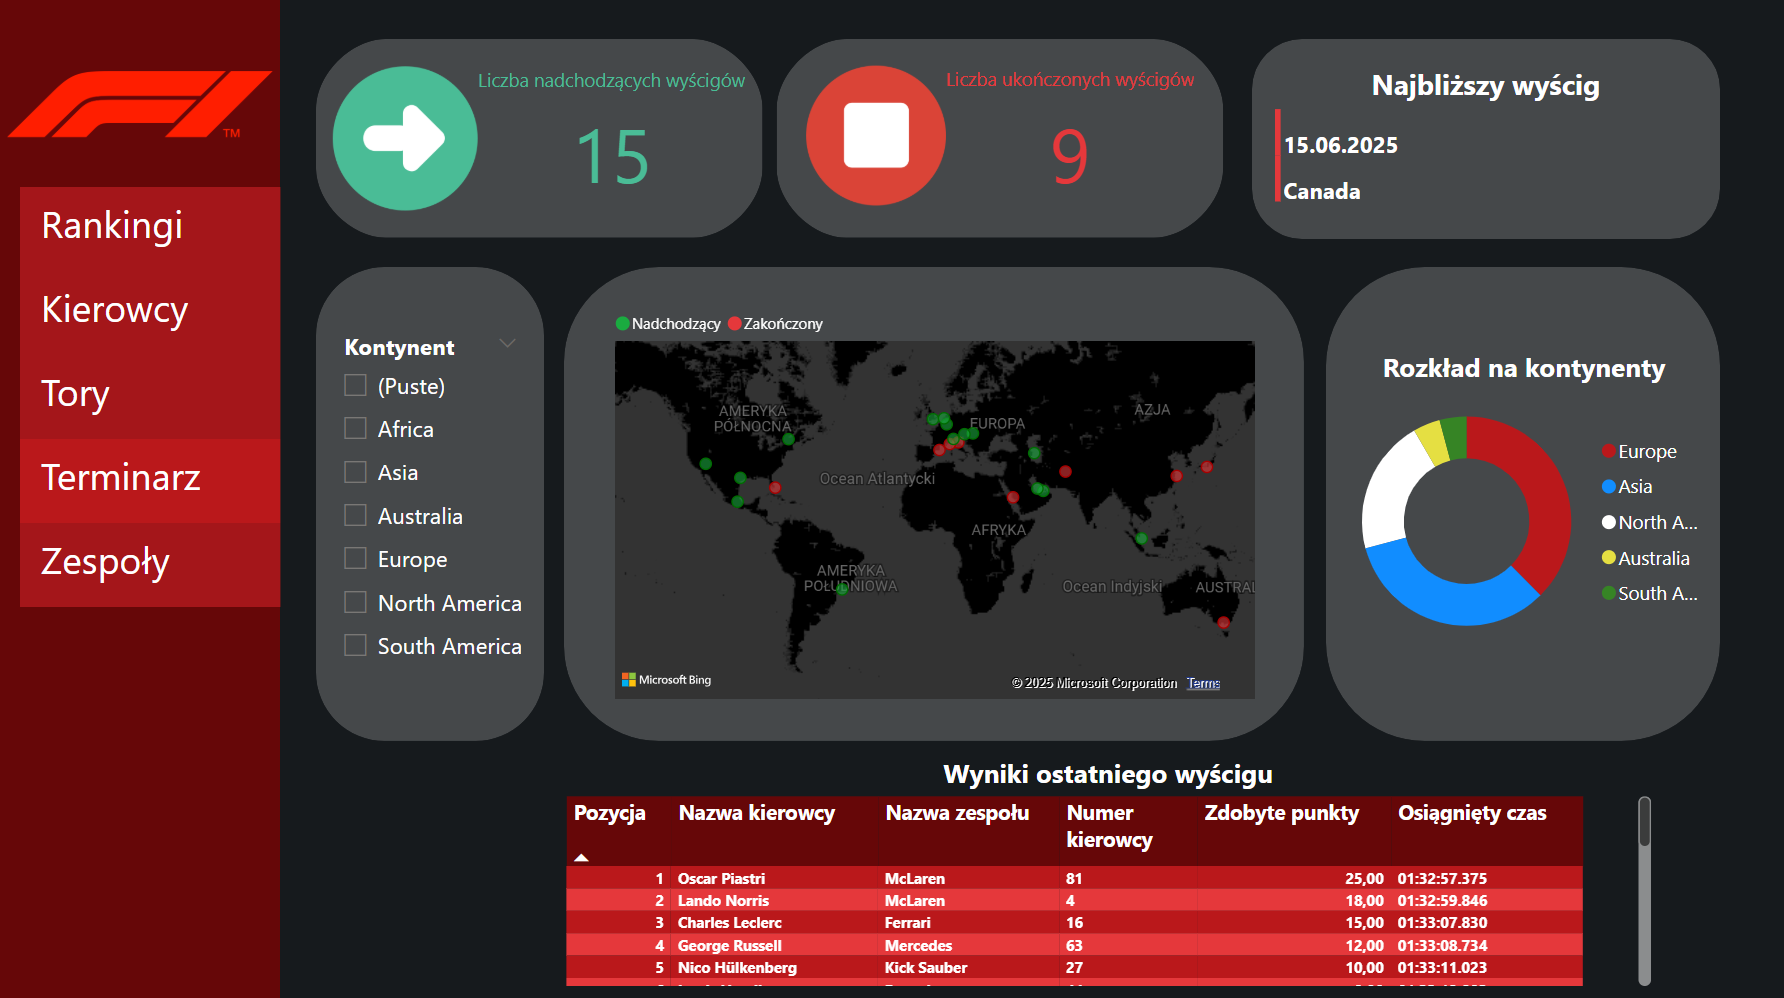

This screenshot's page, from the dashboard's own definition file:
{"tool":"powerbi","page":{"name":"Terminarz","canvas":[1280,720],"ordinal":3},"visuals":[{"type":"shape","box":[947.1,191.4,281.4,338.6],"z":0},{"type":"shape","box":[225.7,191.4,162.9,338.6],"z":1000},{"type":"shape","box":[402.9,191.4,528.6,338.6],"z":2000},{"type":"shape","box":[894.3,28.6,334.3,142.9],"z":3000},{"type":"shape","box":[0,0,200,720],"z":4000},{"type":"image","box":[0,0,200,150],"z":5000},{"type":"pageNavigator","box":[14,134,186,300],"z":6000},{"type":"slicer","fields":{"Values":["DWH dim_country.continent_name"]},"box":[232.9,231.4,148.6,257.1],"z":7000},{"type":"map","fields":{"Category":["DWH dim_circuit.circuit_place_name"],"Series":["DWH dim_race.CzyWyścigOdbyłSię"]},"box":[434.3,212.9,467.1,292.9],"z":8000},{"type":"cardVisual","fields":{"Data":["DWH dim_race.LiczbaWyścigówTak","DWH dim_race.LiczbaWyścigówNie"]},"box":[225.7,28.6,648.6,142.9],"z":9000},{"type":"cardVisual","title":"Najbliższy wyścig","fields":{"Data":["DWH dim_race.NajbliższyWyścig","DWH dim_race.NajbliższeGrandPrix"]},"box":[905.7,47.1,311.4,104.3],"z":10000},{"type":"tableEx","title":"Wyniki ostatniego wyścigu","fields":{"Values":["DWH fact_race_data.race_data_position_display_order","DWH dim_driver.driver_name","DWH dim_constructor.constructor_name","DWH dim_driver.driver_permanent_number","DWH fact_race_data.race_data_race_points","DWH fact_race_data.Łączny Czas Z Karami (Formatowany)"]},"box":[402.9,540,781.4,170],"z":11000},{"type":"donutChart","title":"Rozkład na kontynenty","fields":{"Category":["DWH dim_country.continent_name"],"Y":["CountNonNull(DWH dim_race.CzyWyścigOdbyłSię)"]},"box":[947.1,250,282.9,221.4],"z":12000}]}

Visuals, with their boxes on the page's 1280x720 design canvas (x1, y1, x2, y2). These are canvas units, not pixel positions in the 1784x998 screenshot, which may show the page scaled, cropped or inside an application window:
shape: (947,191,1228,530)
shape: (226,191,389,530)
shape: (403,191,932,530)
shape: (894,29,1229,172)
shape: (0,0,200,720)
image: (0,0,200,150)
pageNavigator: (14,134,200,434)
slicer - DWH dim_country.continent_name: (233,231,382,488)
map - DWH dim_circuit.circuit_place_name x DWH dim_race.CzyWyścigOdbyłSię: (434,213,901,506)
cardVisual - DWH dim_race.LiczbaWyścigówTak x DWH dim_race.LiczbaWyścigówNie: (226,29,874,172)
"Najbliższy wyścig" cardVisual: (906,47,1217,151)
"Wyniki ostatniego wyścigu" tableEx: (403,540,1184,710)
"Rozkład na kontynenty" donutChart: (947,250,1230,471)
